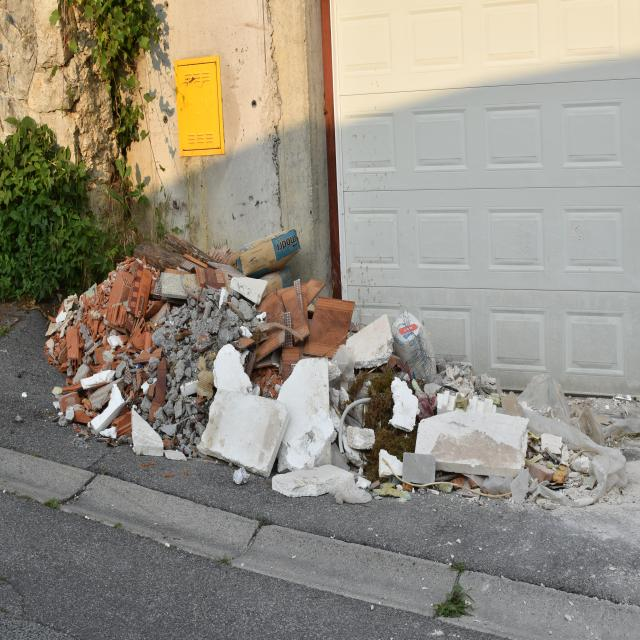entulho: (58, 348, 182, 439), (153, 301, 257, 400), (416, 403, 532, 482), (109, 246, 178, 352), (518, 373, 603, 457), (277, 354, 338, 470), (198, 394, 293, 468), (60, 293, 131, 376), (152, 234, 239, 300), (273, 458, 371, 506), (334, 387, 388, 472), (335, 307, 393, 386), (393, 312, 441, 393), (234, 224, 304, 275), (211, 342, 262, 411), (305, 298, 358, 359), (252, 261, 298, 294), (295, 280, 325, 299)
